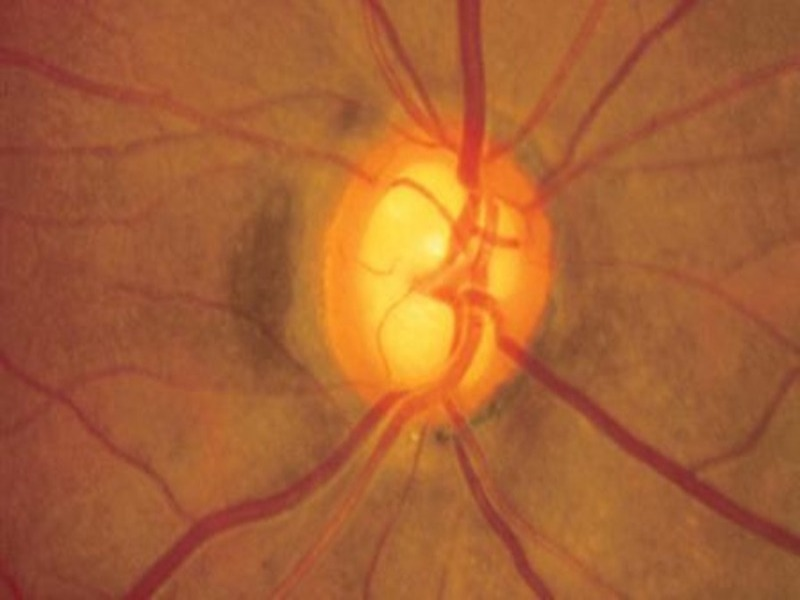Optic Cup: (365, 162, 510, 377)
Optic Disc: (322, 124, 554, 424)
